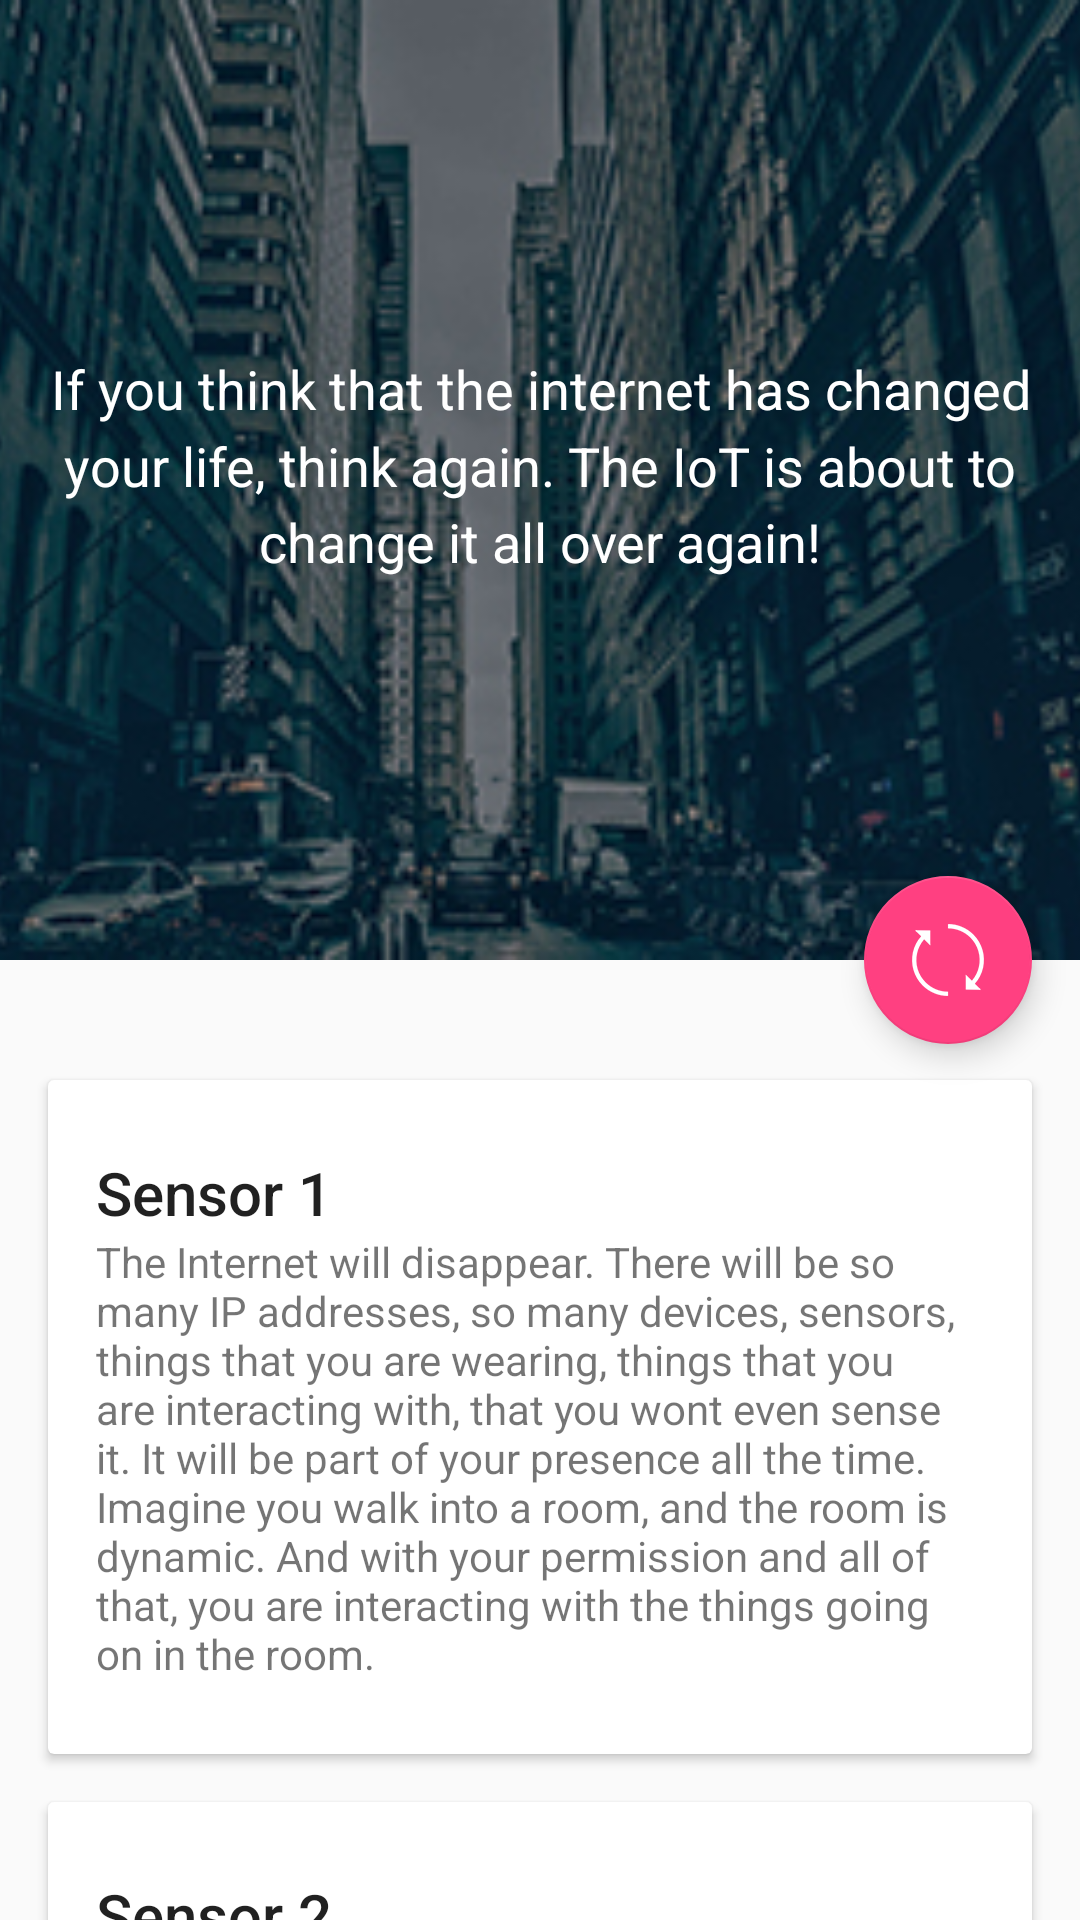

Icon click points for this 1080px x 1920px phone screenshot, format point (x, y):
refresh: point (948, 960)
